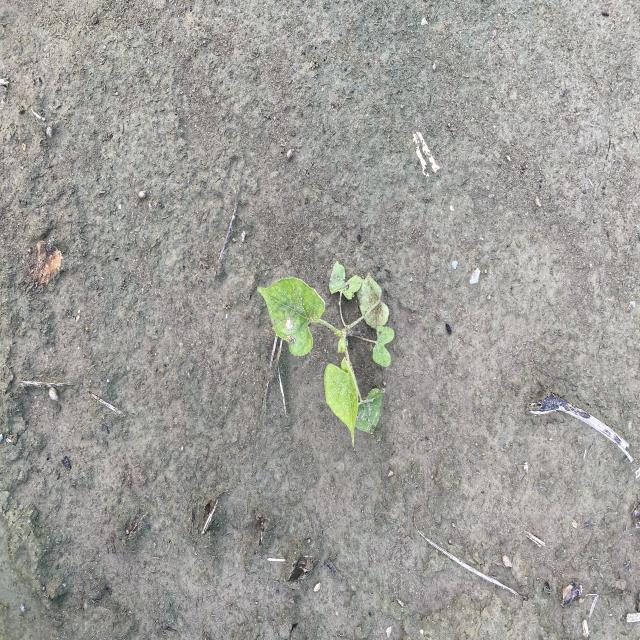MorningGlory: (257, 260, 396, 450)
